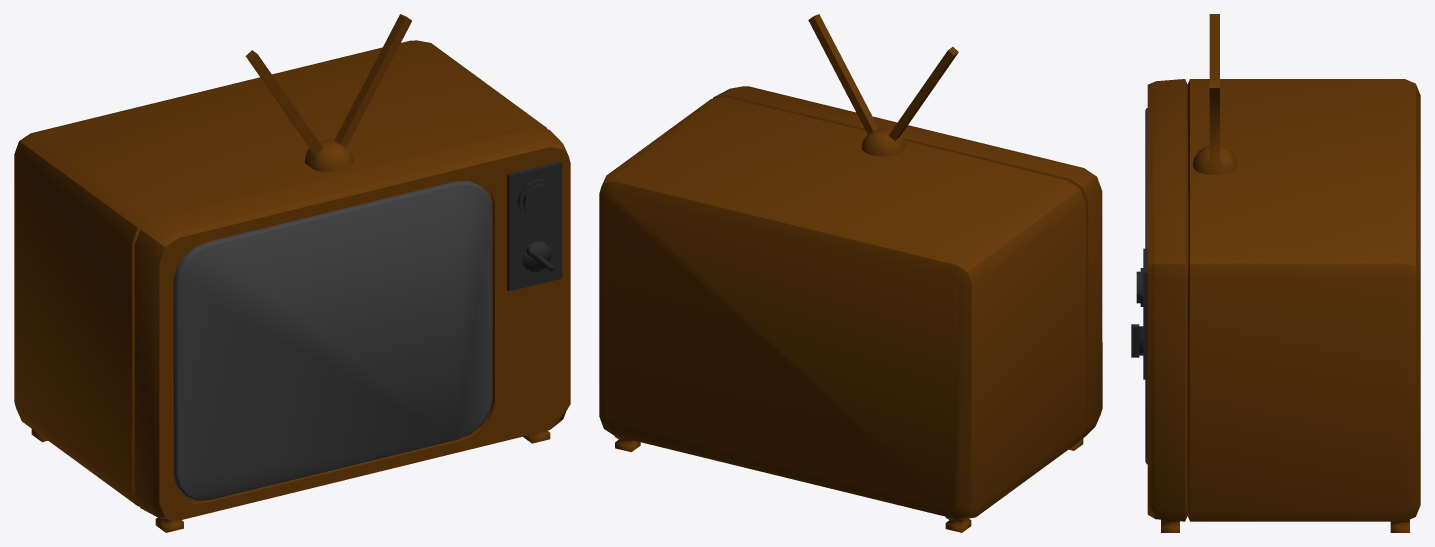
The picture shows the model from 3 angles, left to right: view 1: azimuth 30°, elevation 25°; view 2: azimuth 150°, elevation 25°; view 3: azimuth 270°, elevation 25°; orthographic projection. The views are drawn at different scales.
Parts seen in each view (by area): view 1: Cube; view 2: Cube; view 3: Cube.
Boxes of the visible parts, left/top/right/bottom form: Cube: left=14, top=14, right=570, bottom=532; Cube: left=599, top=14, right=1102, bottom=532; Cube: left=1131, top=14, right=1420, bottom=532.
Bounding box in the file's own units: 303 × 296 × 195.
